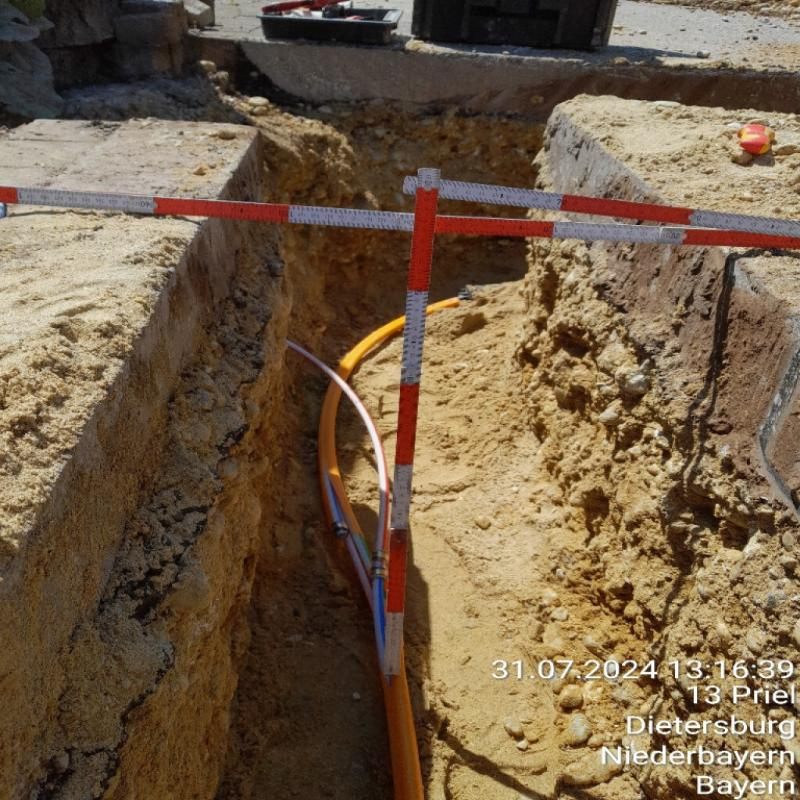Orang-Speednetrohrchen: (319, 316, 406, 643), (379, 642, 422, 798), (427, 297, 459, 315)
